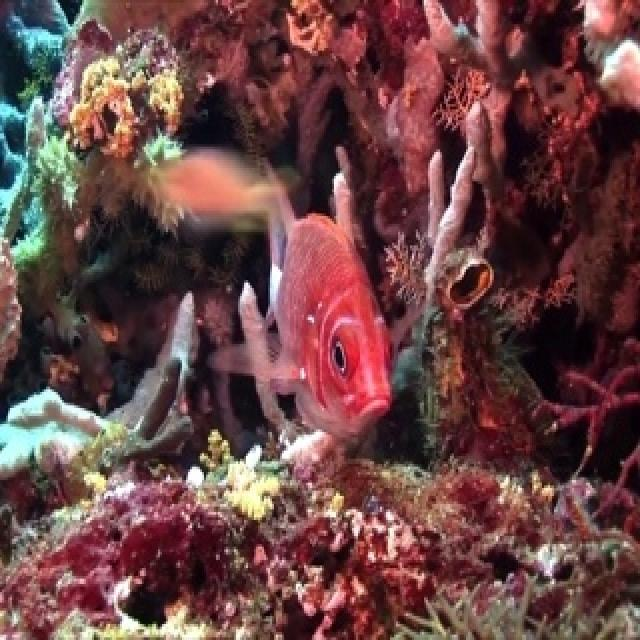fish: (193, 163, 396, 439)
reefs: (69, 25, 186, 160)
